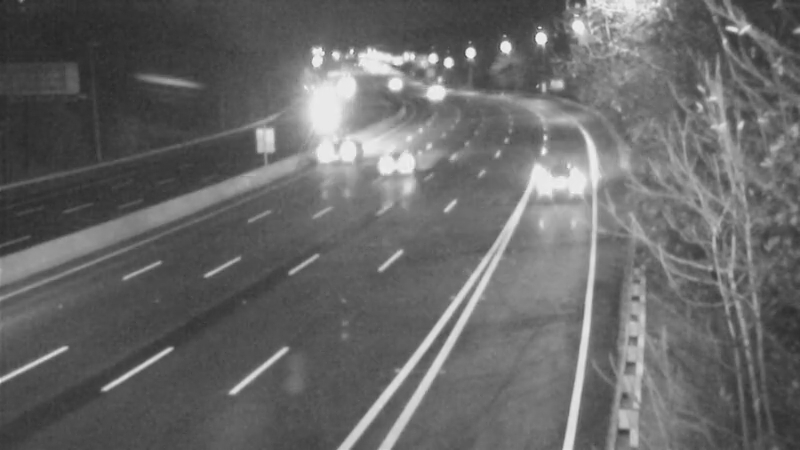vehicle: (522, 137, 602, 217), (363, 121, 443, 201), (298, 111, 378, 191), (367, 58, 417, 108), (406, 70, 456, 120), (290, 90, 340, 140)
